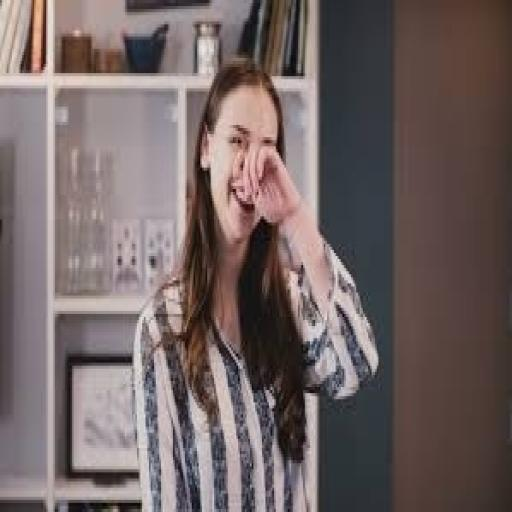laughing: (125, 46, 382, 506)
